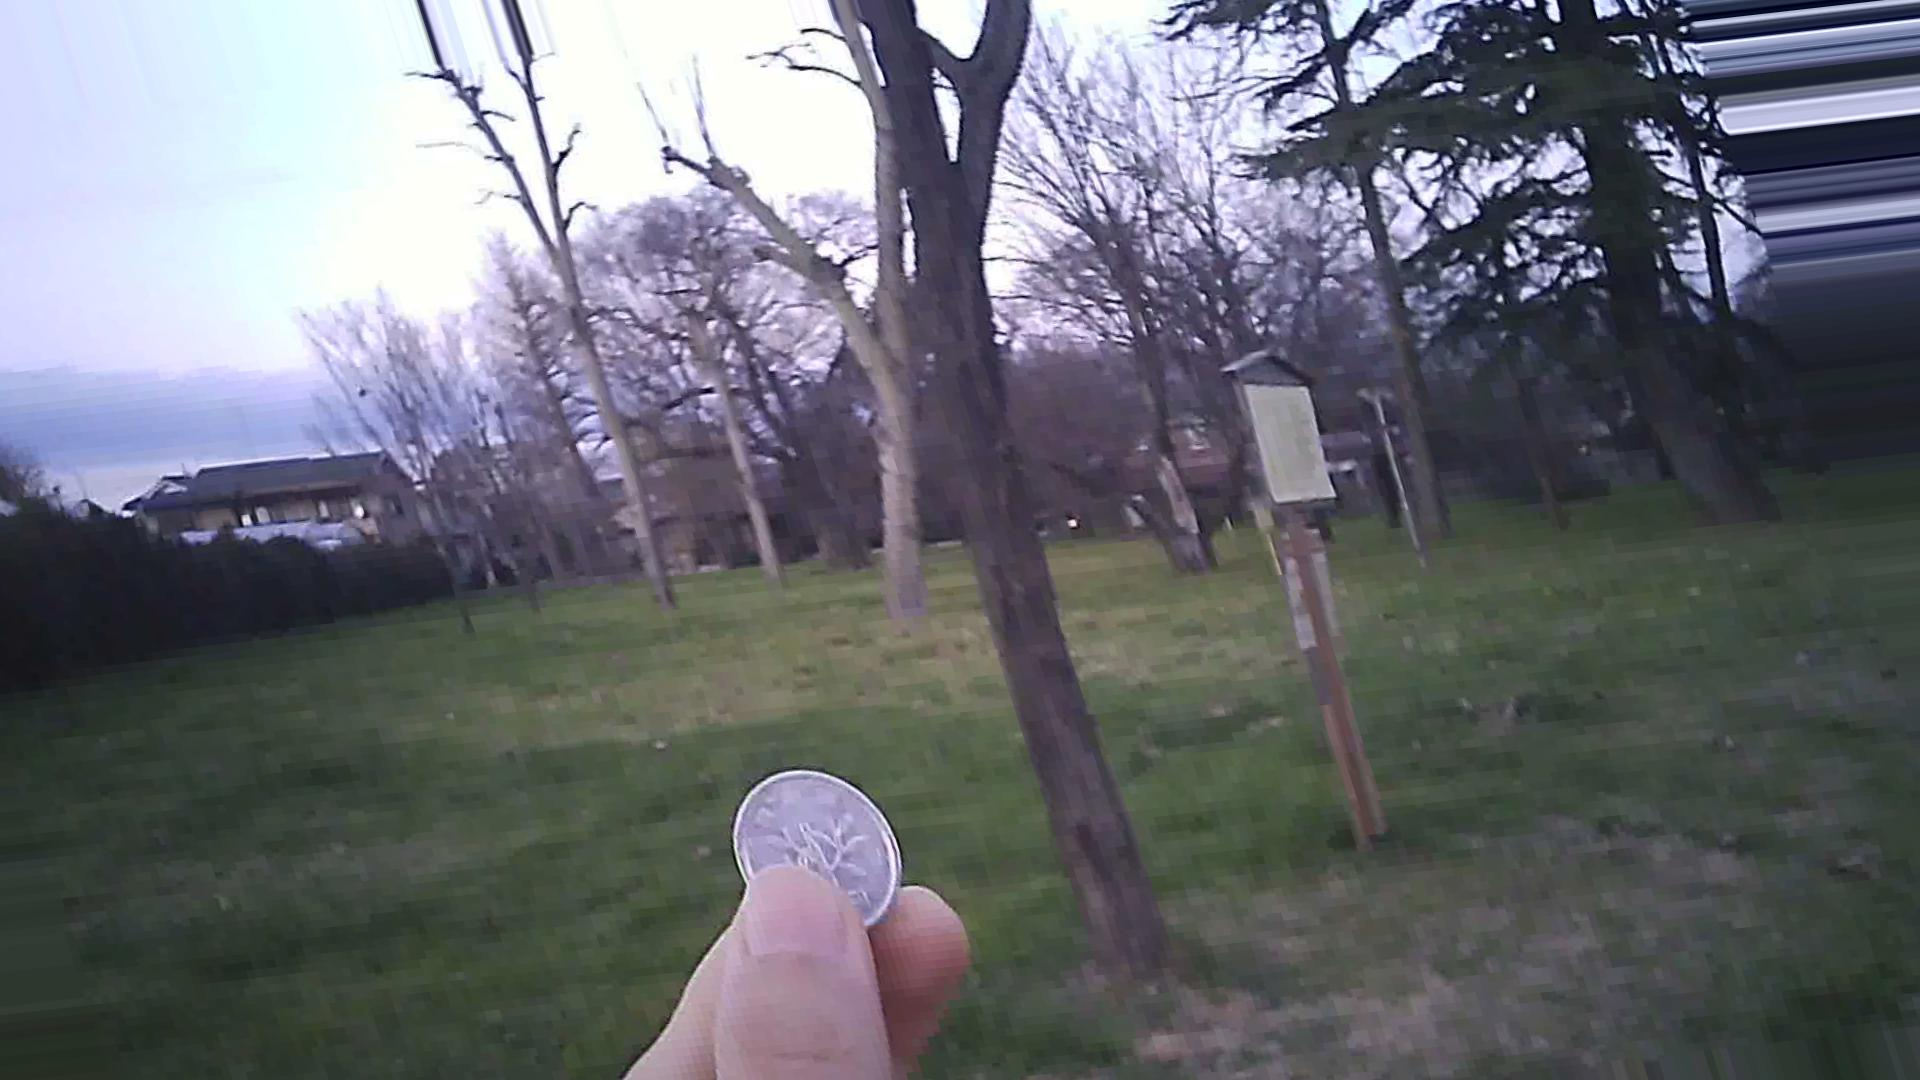1 Yen: (725, 760, 918, 922)
